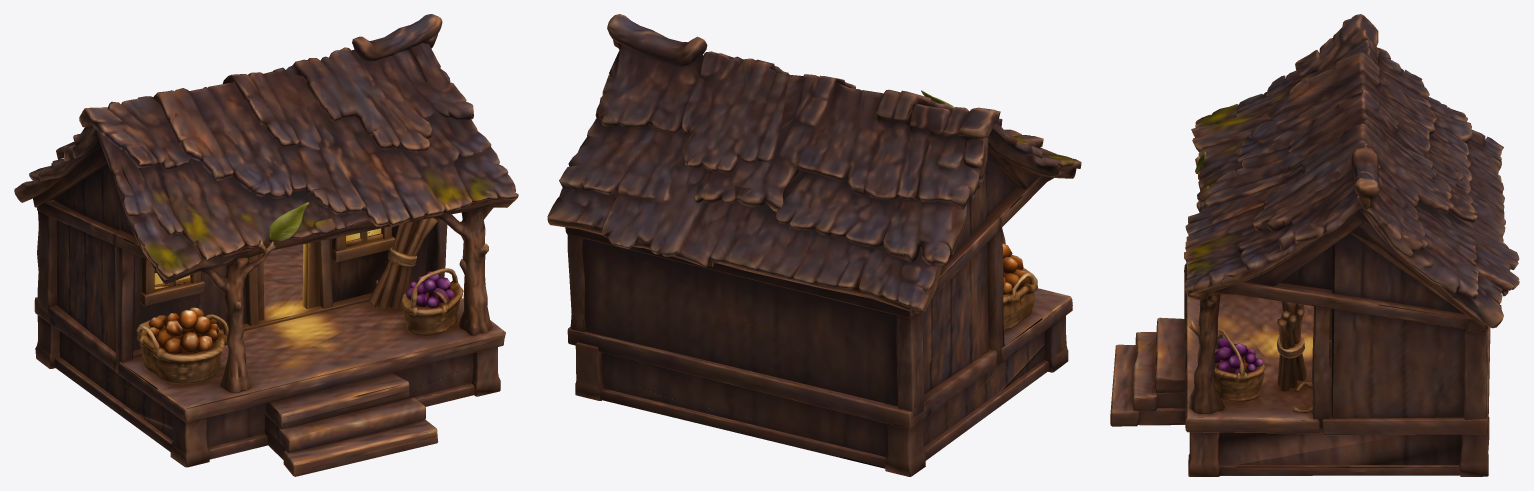
The model's file is general-store.glb.
The picture shows the model from 3 angles, left to right: view 1: azimuth 30°, elevation 25°; view 2: azimuth 150°, elevation 25°; view 3: azimuth 270°, elevation 25°; orthographic projection. The views are drawn at different scales.
Visible parts, largest first — view 1: geometry_0; view 2: geometry_0; view 3: geometry_0.
Part boxes in pixels (x1=…): geometry_0: x1=14, y1=14, x2=518, y2=476; geometry_0: x1=547, y1=14, x2=1081, y2=476; geometry_0: x1=1110, y1=14, x2=1519, y2=476.
Bounding box in the file's own units: 0.9565 × 0.7705 × 0.9282.
1 material, 1 textured.
